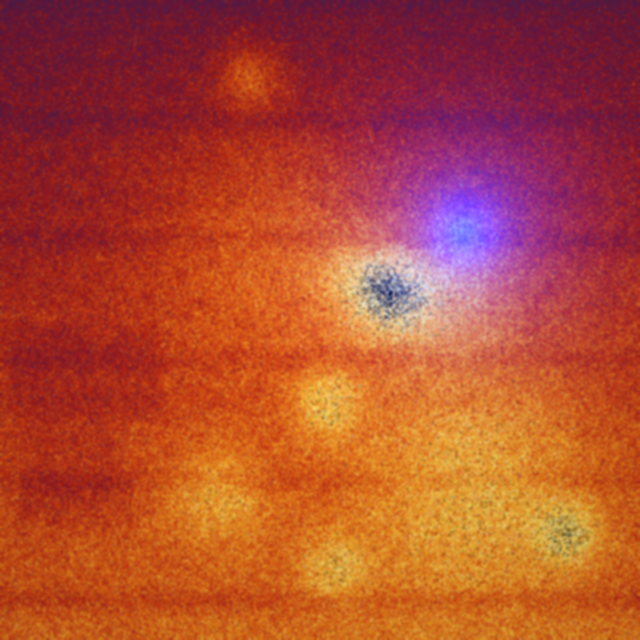nozzle: (432, 191, 508, 263)
